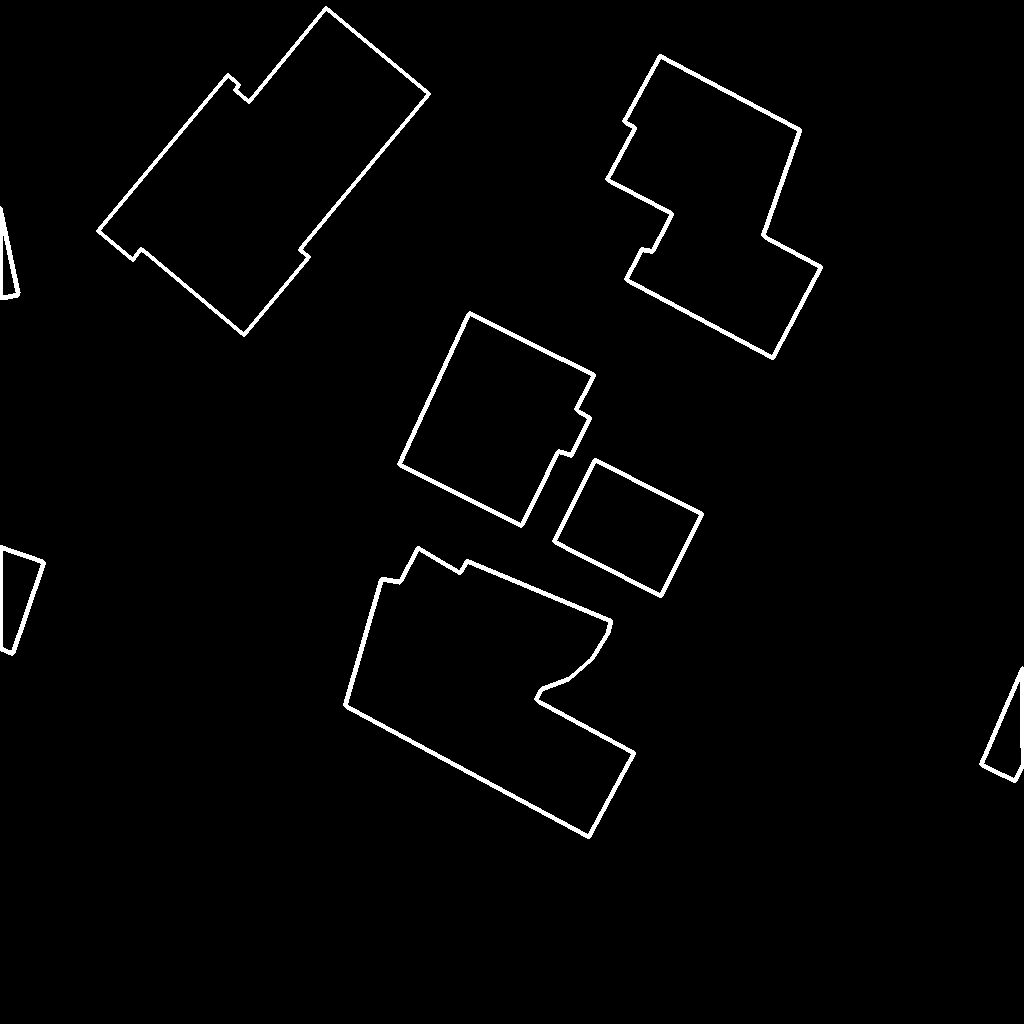building: (98, 8, 430, 336), (345, 548, 635, 838), (607, 56, 822, 359), (399, 313, 595, 527), (554, 460, 703, 597), (981, 667, 1024, 782), (0, 547, 45, 655), (0, 206, 19, 299)
